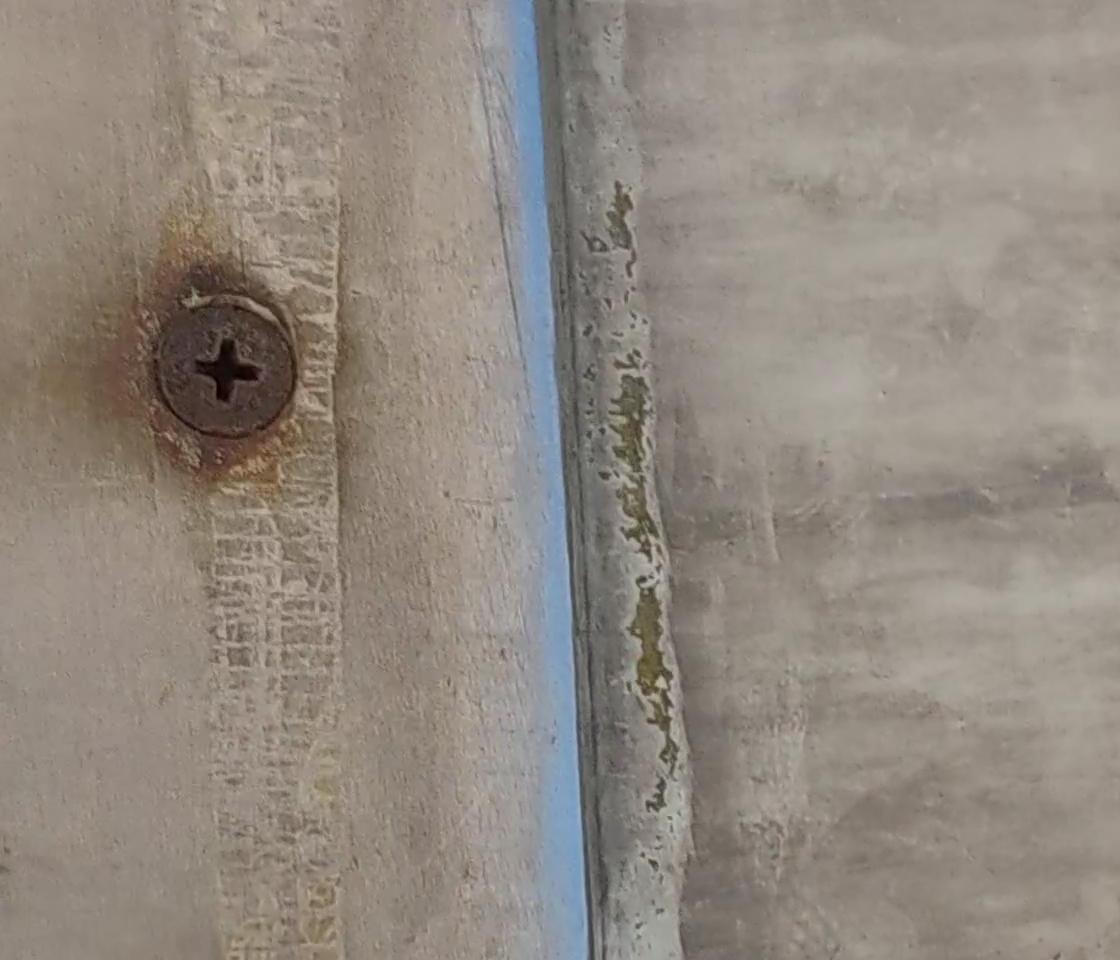rivet_damage: (137, 287, 302, 455)
